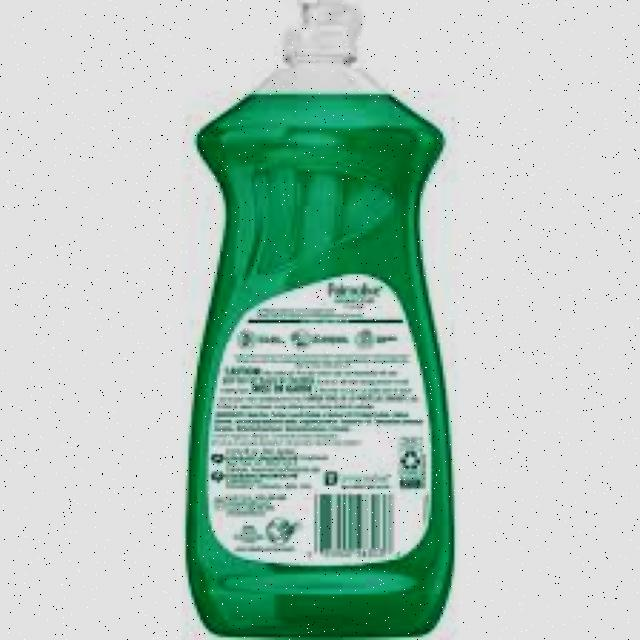liquid soap: (188, 0, 468, 640)
